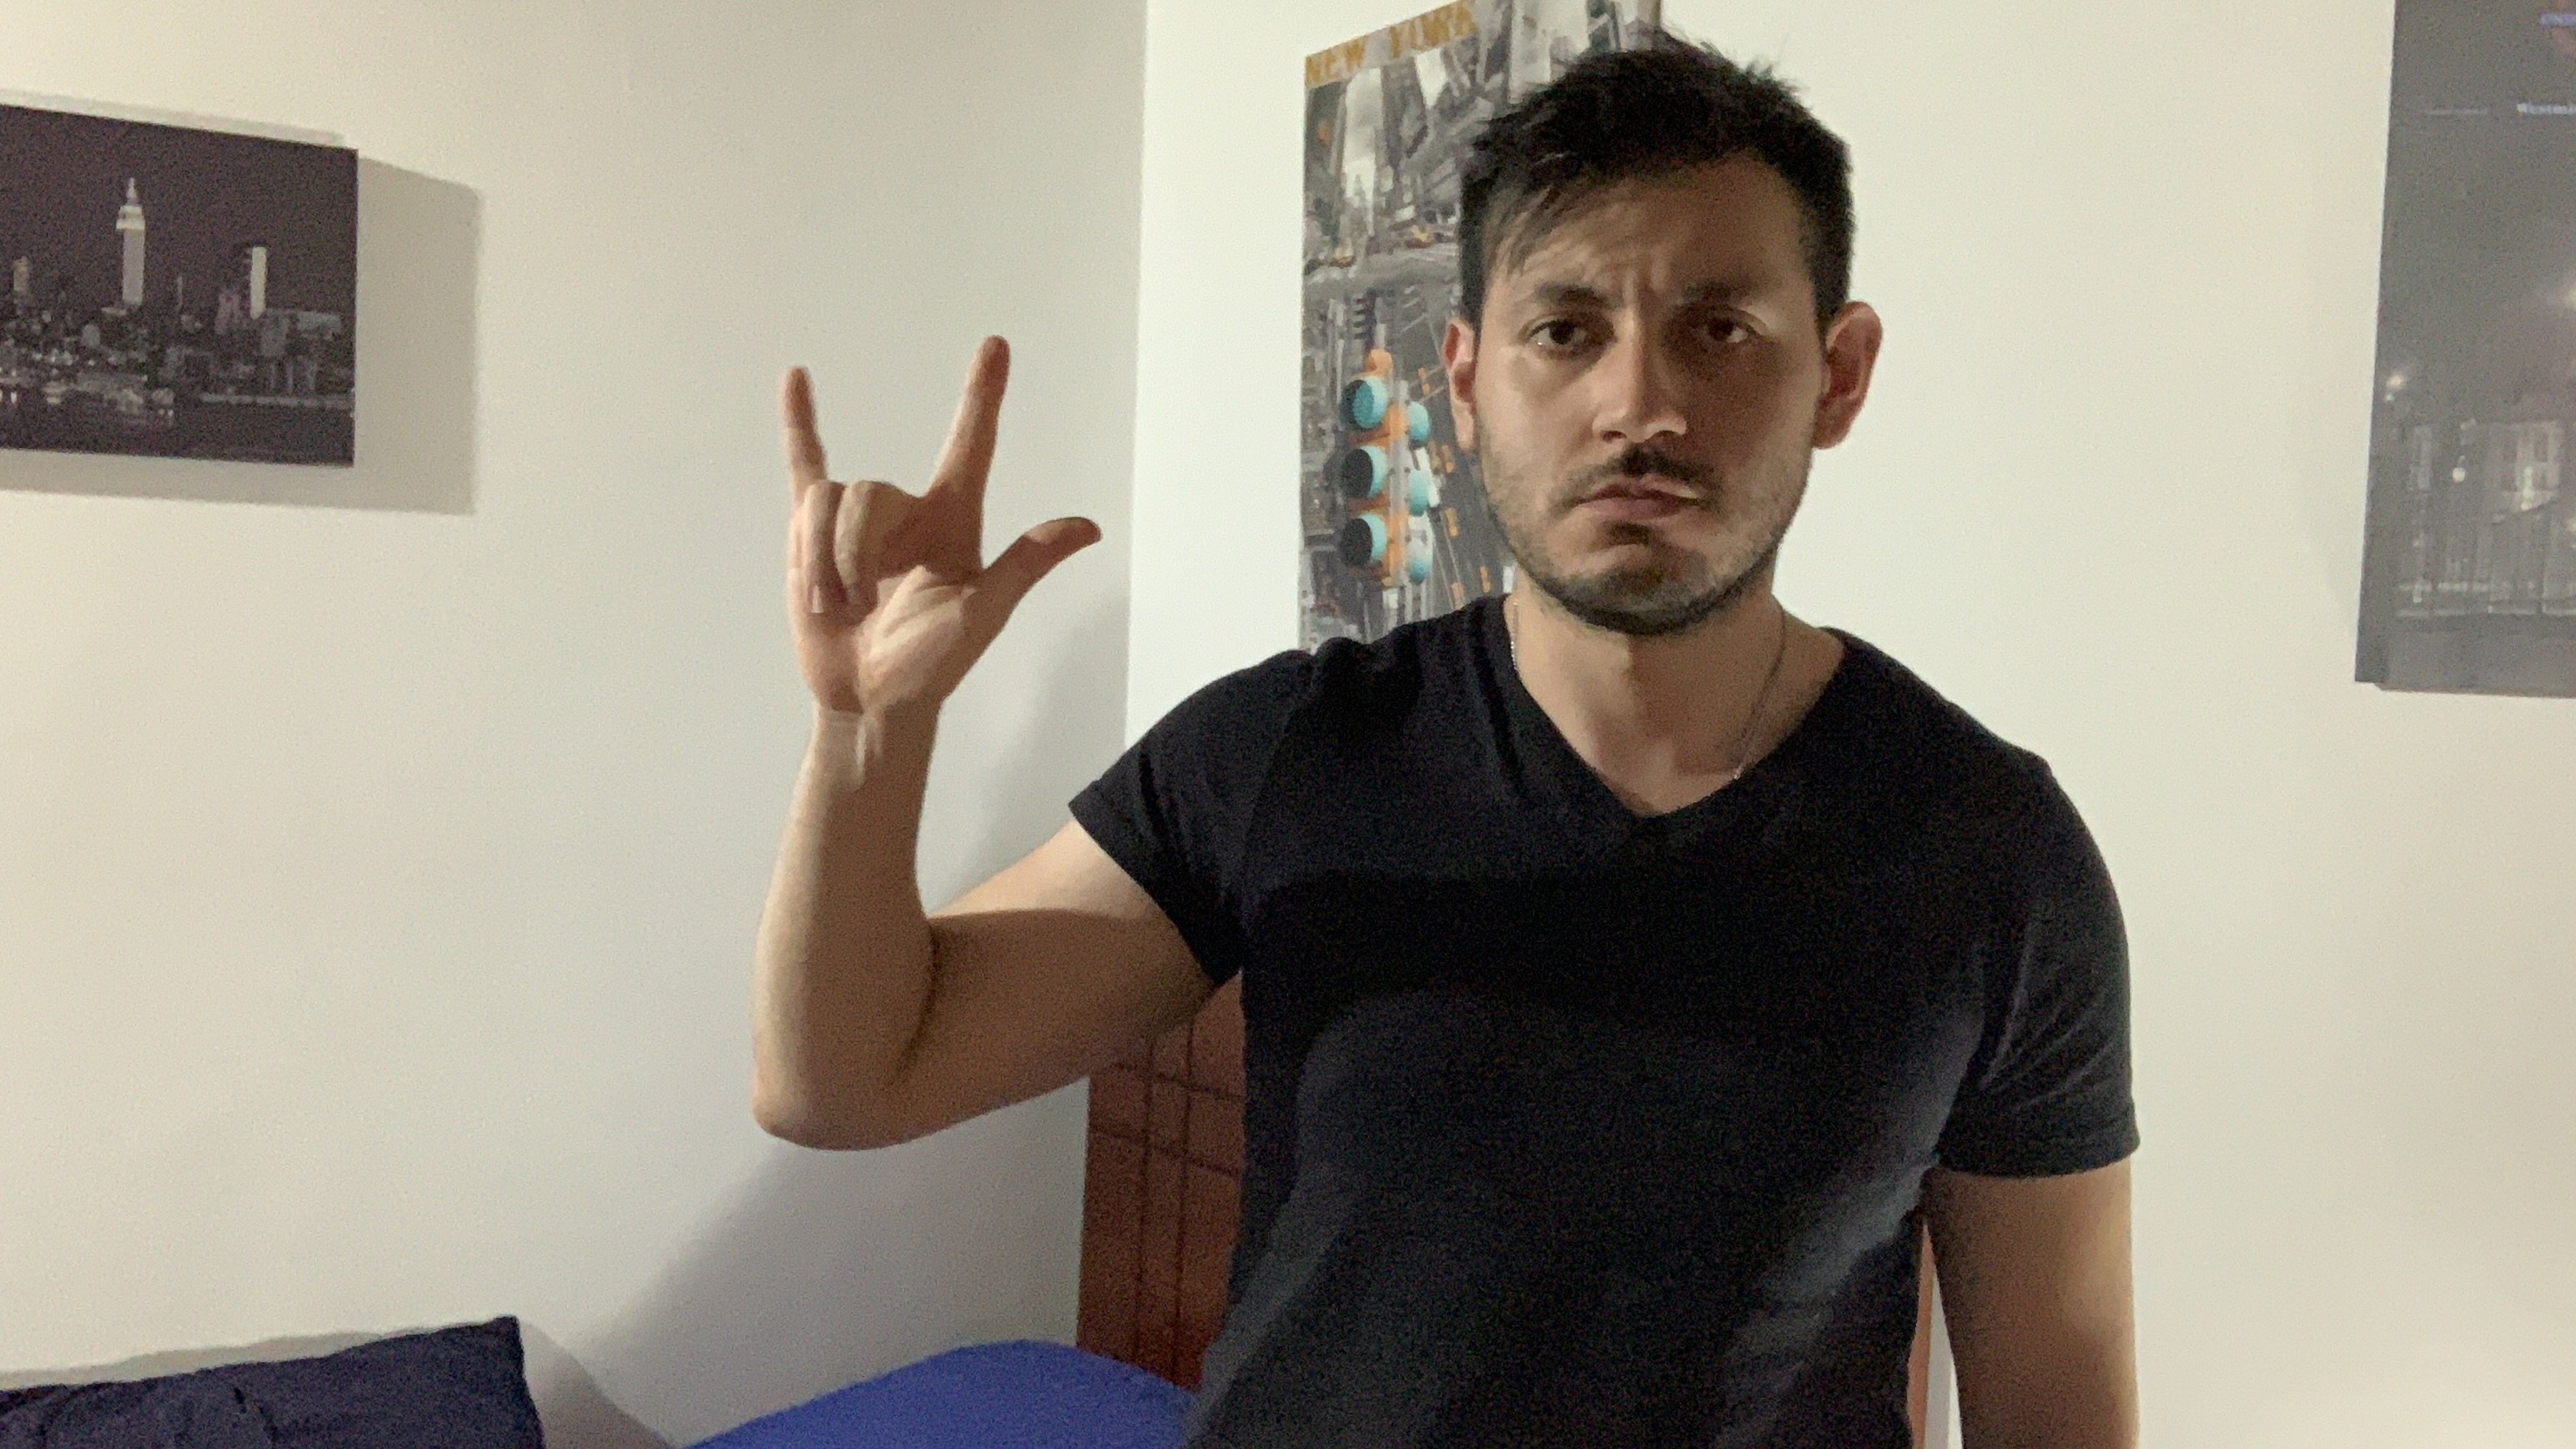I Love You: (768, 327, 1120, 709)
